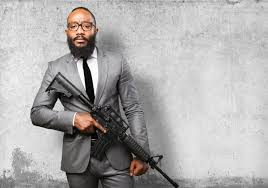gun: (49, 70, 186, 188)
